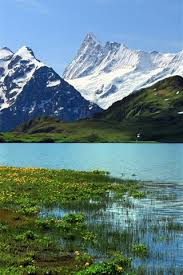lake: (8, 144, 183, 273)
mountain: (7, 49, 183, 144)
sky: (4, 4, 183, 48)
